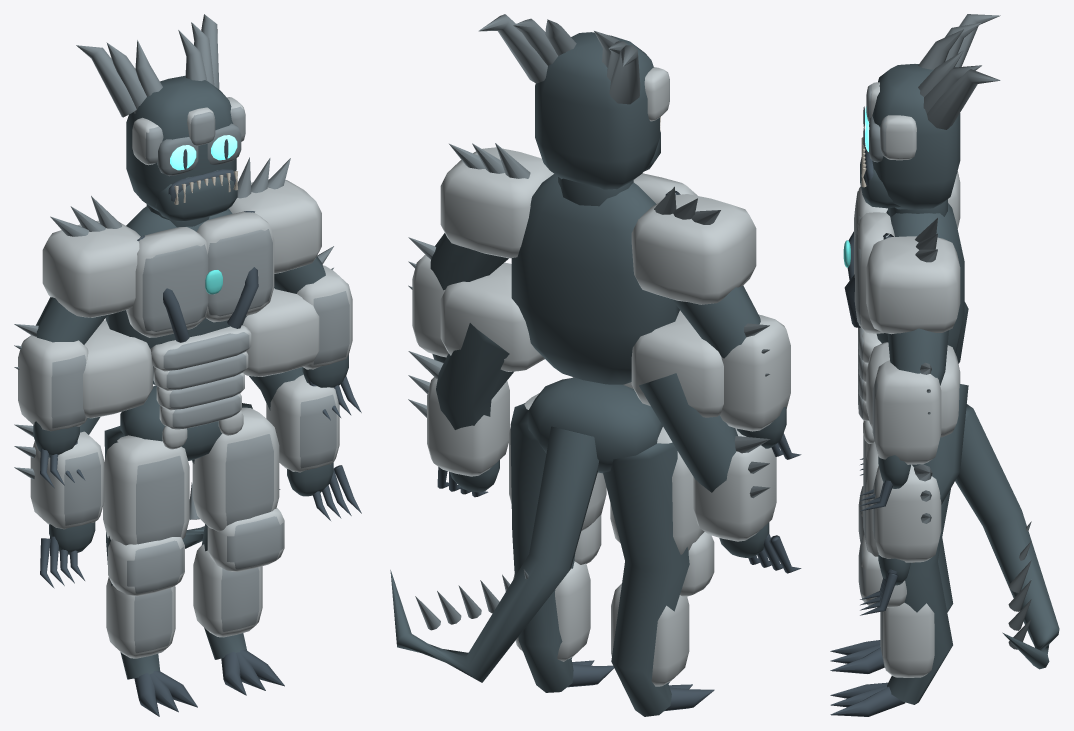
Rendered from hawthorne_catharsis.glb.
3 renders of one model, left to right at view 1: azimuth 30°, elevation 25°; view 2: azimuth 150°, elevation 25°; view 3: azimuth 270°, elevation 25°, orthographic. The views are drawn at different scales.
Visible parts, largest first — view 1: Shoulder upperLeftArm steel rim, Crowned Catharsis skull, Shoulder lowerLeftArm steel rim, Shoulder lowerRightArm steel rim, Thigh leftLeg steel rim, Shoulder upperRightArm steel rim, Crossed harness -1 armour, Crossed harness 1 armour, Thigh rightLeg steel rim, Thigh rightLeg armour, Thigh leftLeg armour, Forearm upperLeftArm steel rim (+50 smaller); view 2: Catharsis thorax, Armoured digitigrade leftLeg, Crowned Catharsis skull, Barbed Catharsis tail, Shoulder upperLeftArm steel rim, Shoulder upperRightArm steel rim, Pelvic carapace, Armoured digitigrade rightLeg, Forearm upperLeftArm steel rim, Shoulder lowerRightArm steel rim, Shoulder lowerLeftArm steel rim, Forearm lowerLeftArm steel rim (+24 smaller); view 3: Barbed Catharsis tail, Shoulder upperRightArm steel rim, Crowned Catharsis skull, Forearm upperRightArm steel rim, Forearm lowerRightArm steel rim, Armoured digitigrade rightLeg, Shin rightLeg steel rim, Catharsis thorax, Sinewed limb upperRightArm, Shoulder lowerRightArm steel rim, Sinewed limb lowerRightArm, Crossed harness 1 steel rim (+22 smaller).
Boxes of the visible parts, bbox=[...] form: Shoulder upperLeftArm steel rim: bbox=[42, 220, 140, 317]; Crowned Catharsis skull: bbox=[126, 75, 236, 211]; Shoulder lowerLeftArm steel rim: bbox=[83, 320, 152, 418]; Shoulder lowerRightArm steel rim: bbox=[242, 288, 319, 376]; Thigh leftLeg steel rim: bbox=[103, 435, 189, 545]; Shoulder upperRightArm steel rim: bbox=[229, 179, 321, 273]; Crossed harness -1 armour: bbox=[142, 244, 208, 331]; Crossed harness 1 armour: bbox=[208, 229, 272, 316]; Thigh rightLeg steel rim: bbox=[192, 407, 279, 531]; Thigh rightLeg armour: bbox=[225, 434, 273, 525]; Thigh leftLeg armour: bbox=[136, 455, 184, 544]; Forearm upperLeftArm steel rim: bbox=[18, 335, 88, 431]; Catharsis thorax: bbox=[511, 174, 679, 384]; Armoured digitigrade leftLeg: bbox=[603, 442, 689, 716]; Crowned Catharsis skull: bbox=[535, 32, 659, 189]; Barbed Catharsis tail: bbox=[390, 426, 598, 682]; Shoulder upperLeftArm steel rim: bbox=[631, 194, 756, 304]; Shoulder upperRightArm steel rim: bbox=[440, 147, 553, 258]; Pelvic carapace: bbox=[528, 377, 662, 473]; Armoured digitigrade rightLeg: bbox=[510, 403, 575, 692]; Forearm upperLeftArm steel rim: bbox=[720, 314, 790, 431]; Shoulder lowerRightArm steel rim: bbox=[440, 262, 544, 371]; Shoulder lowerLeftArm steel rim: bbox=[631, 310, 723, 417]; Forearm lowerLeftArm steel rim: bbox=[693, 428, 776, 541]; Barbed Catharsis tail: bbox=[955, 404, 1059, 669]; Shoulder upperRightArm steel rim: bbox=[866, 236, 960, 334]; Crowned Catharsis skull: bbox=[872, 64, 960, 209]; Forearm upperRightArm steel rim: bbox=[875, 360, 941, 464]; Forearm lowerRightArm steel rim: bbox=[875, 464, 941, 562]; Armoured digitigrade rightLeg: bbox=[887, 489, 952, 704]; Shin rightLeg steel rim: bbox=[883, 602, 934, 677]; Catharsis thorax: bbox=[876, 203, 964, 353]; Sinewed limb upperRightArm: bbox=[887, 328, 948, 385]; Shoulder lowerRightArm steel rim: bbox=[866, 342, 960, 437]; Sinewed limb lowerRightArm: bbox=[912, 384, 968, 504]; Crossed harness 1 steel rim: bbox=[857, 212, 894, 333].
Size of the model in its own units: 2.5 by 4.66 by 1.49.
